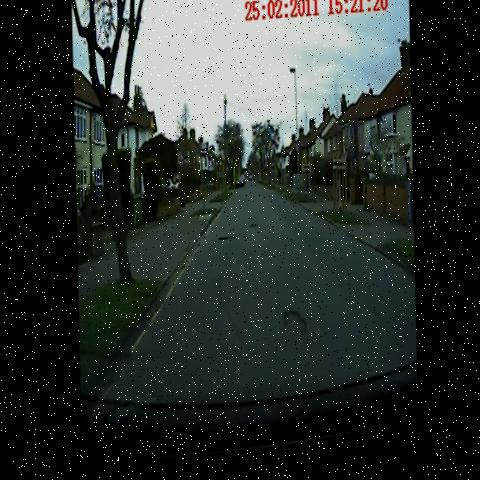pothole: (277, 303, 310, 358), (212, 228, 237, 256), (240, 222, 259, 239)
